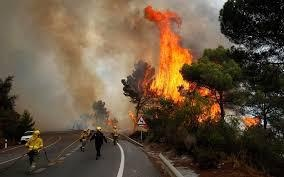fire: (142, 5, 220, 124), (240, 112, 262, 126)
